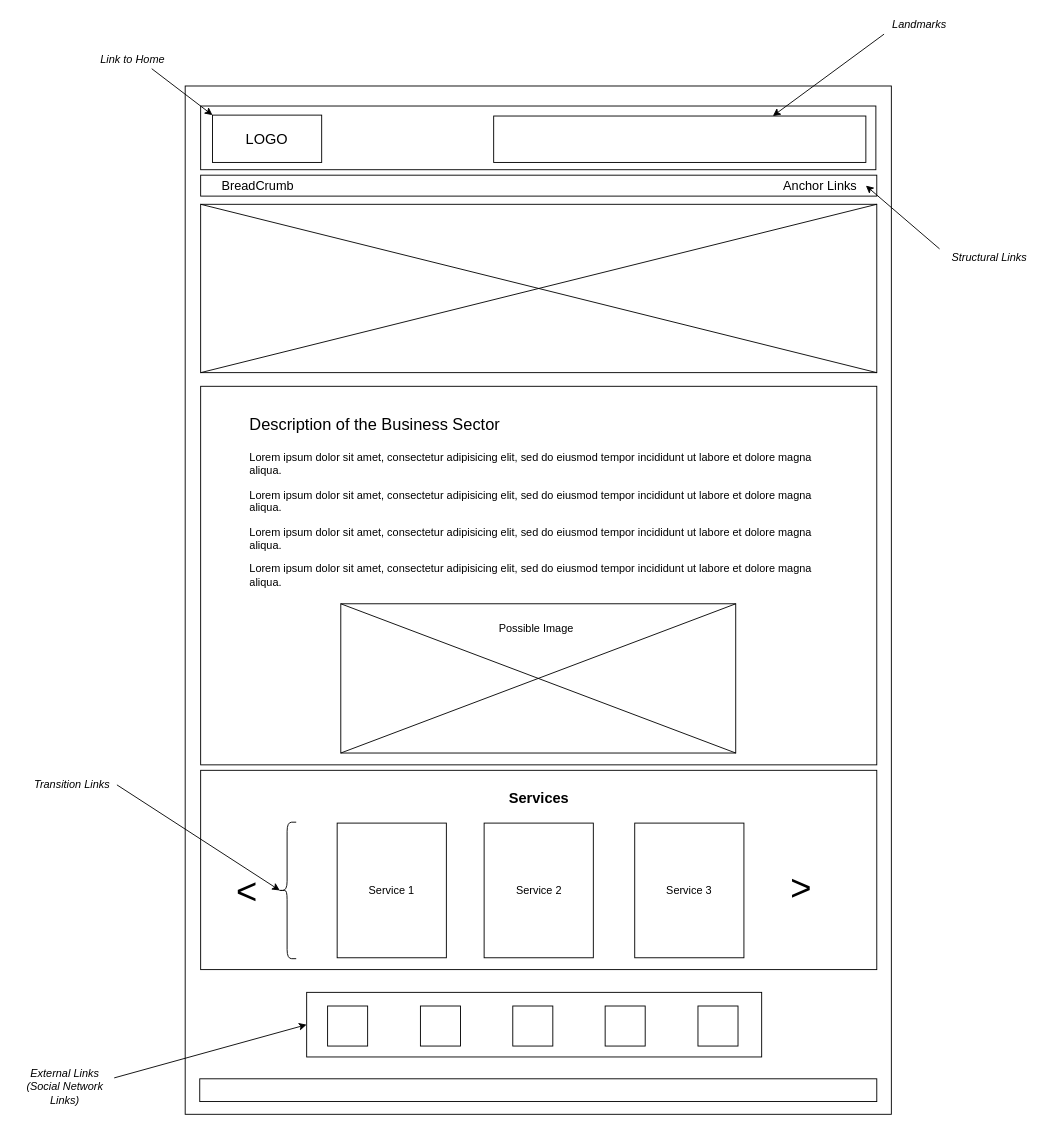
Some shapes in this 1055 by 1130 pixel diagram are drawn without their labels. The shapes that lost their labels are listed below. From the top down, each one's box as (x1, y1, x2, y2) in pixels, then its label:
(493, 115, 866, 162): About Us Areas Services Industries Our Team Contact Us
(200, 203, 877, 373): INDUSTRY NAME
(199, 1078, 877, 1102): Footer
